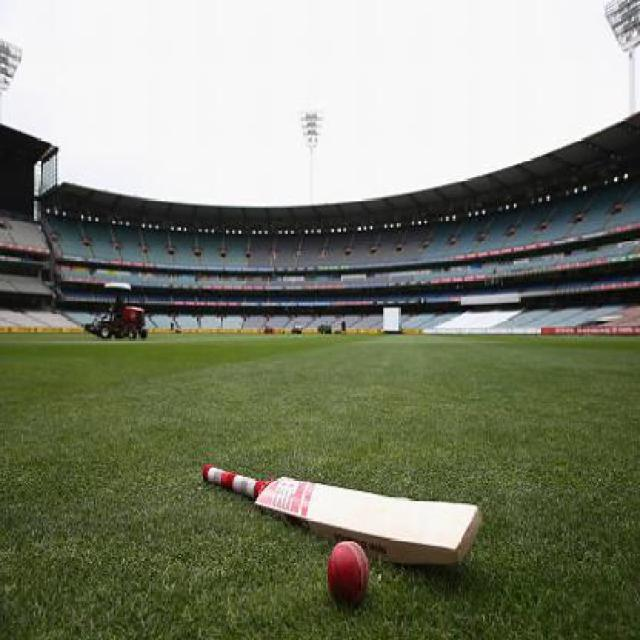ball: (300, 524, 393, 620)
